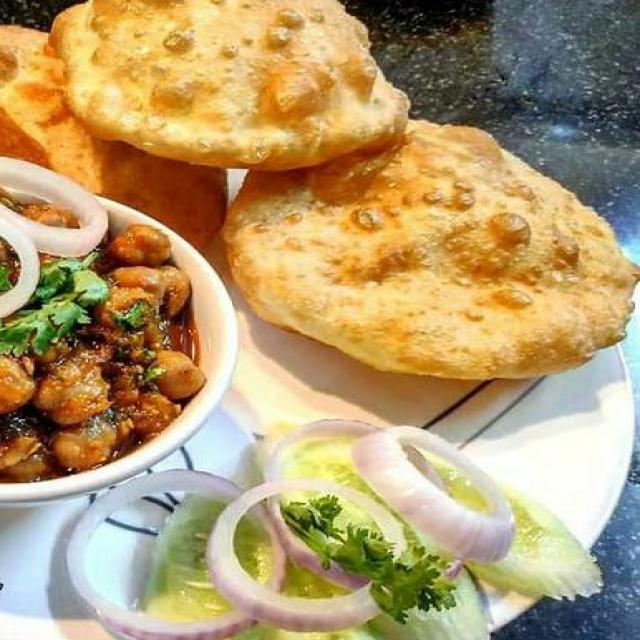Bhatura: (223, 120, 640, 382), (0, 0, 411, 234)
